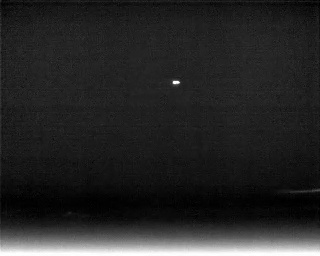AIRPLANE: (170, 78, 182, 87)
